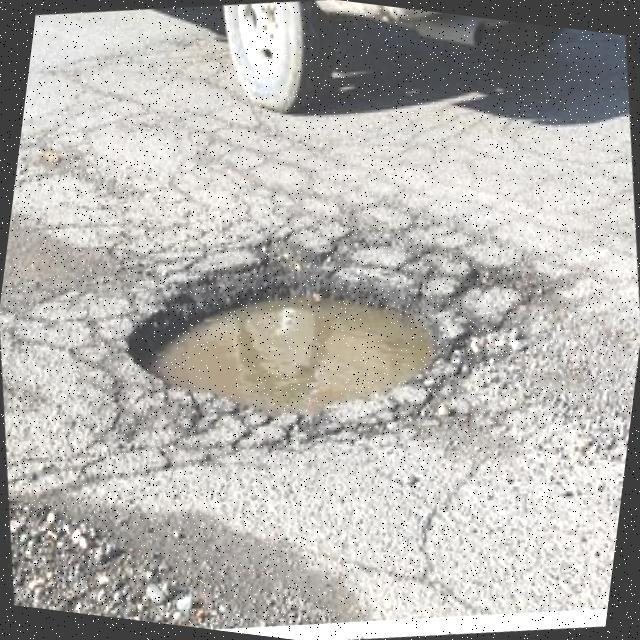Pothole: (124, 268, 434, 419)
